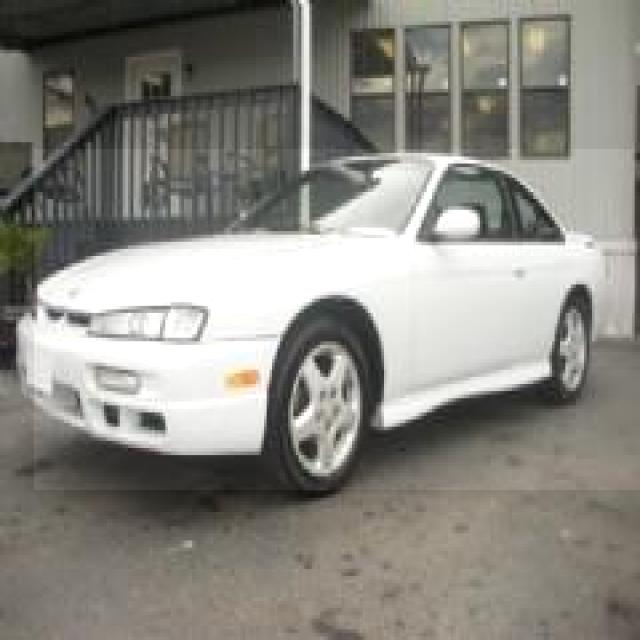Car: (34, 149, 640, 490)
